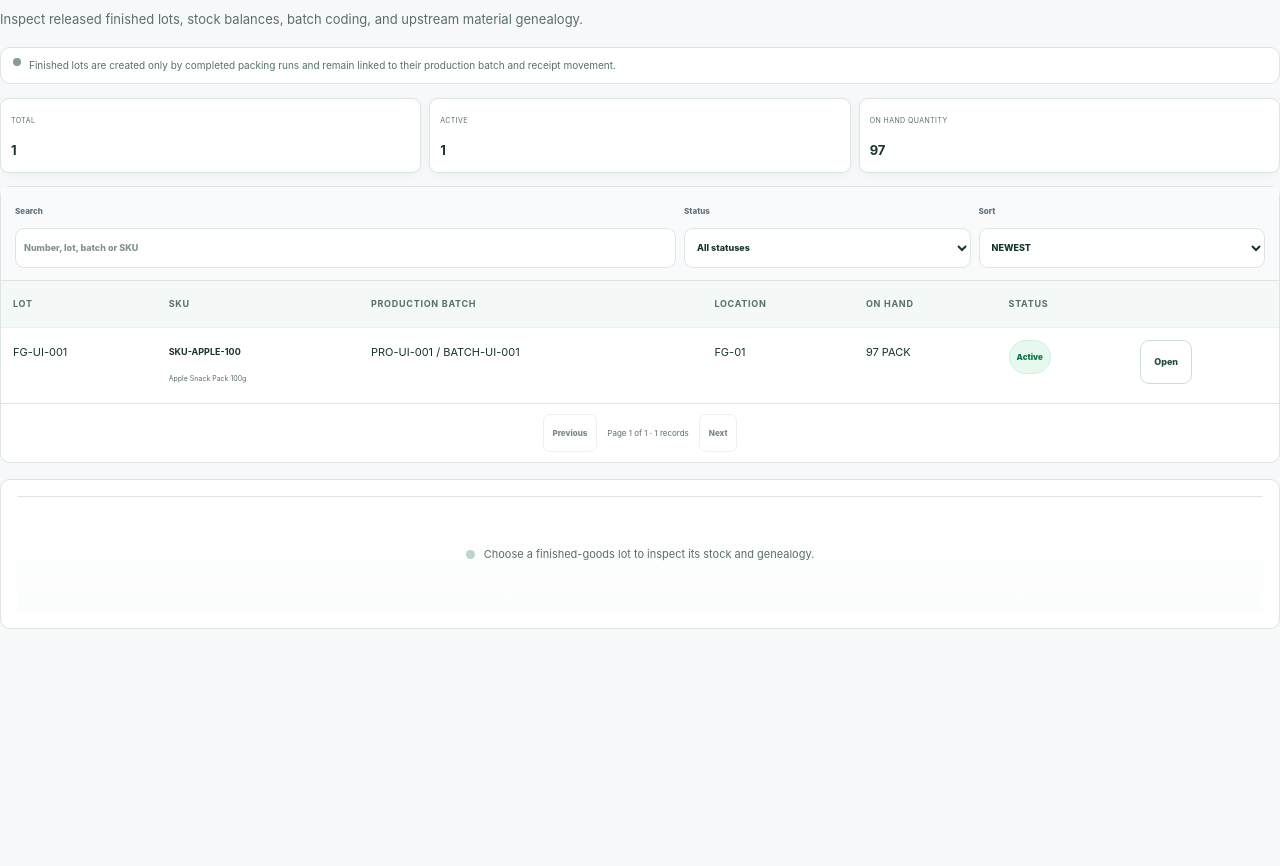
Test: quality and packing workspaces › opens a finished lot with its upstream input provenance
What coordinates should you click on to do the following:
click the button "Open"
I would click on:
 (1166, 362)
Its box is left=1140, top=340, right=1192, bottom=384.
(page scrolled)
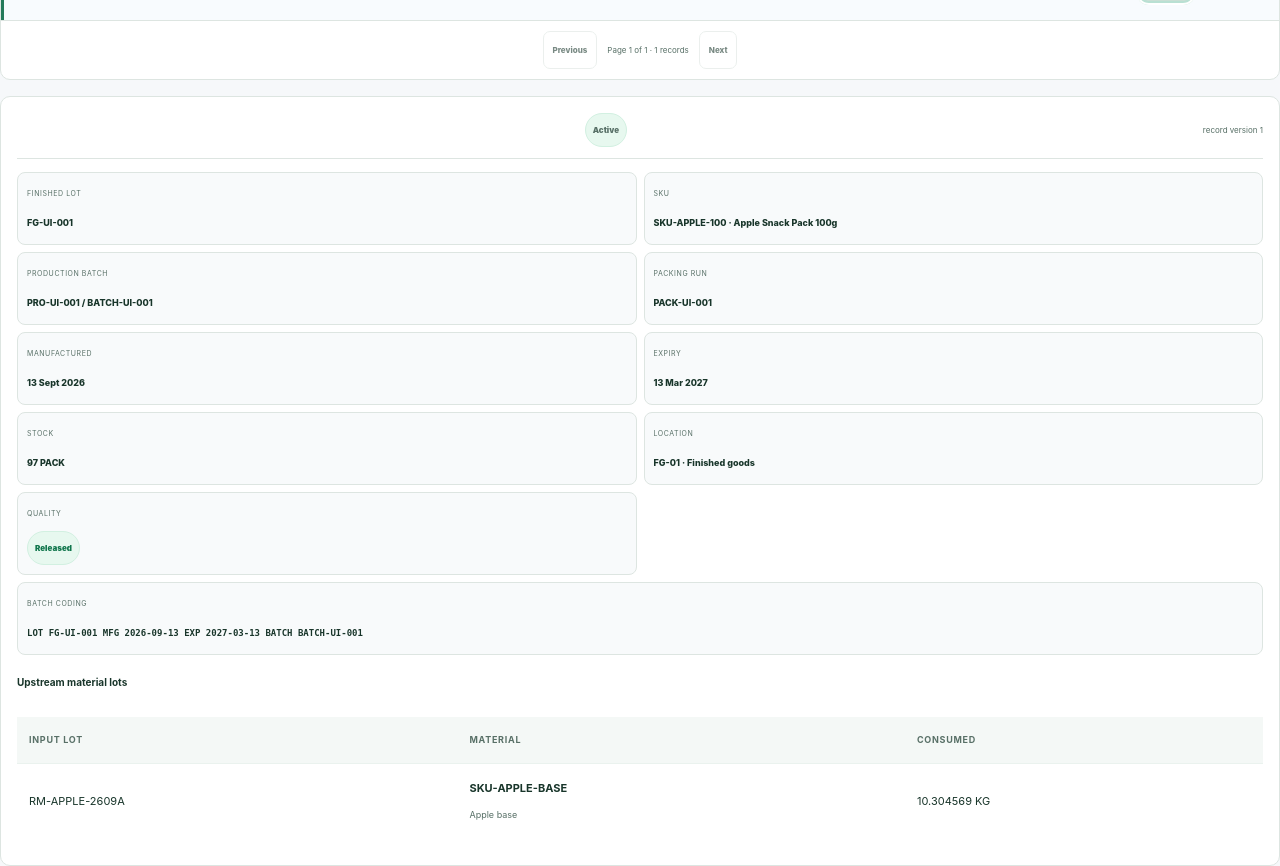
Result: the text "RM-APPLE-2609A" is shown at left=17, top=763, right=457, bottom=839
Result: the text "LOT FG-UI-001" is shown at left=27, top=628, right=363, bottom=638
